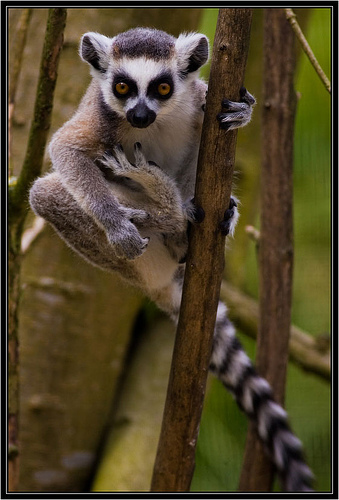cat: (25, 25, 323, 495)
